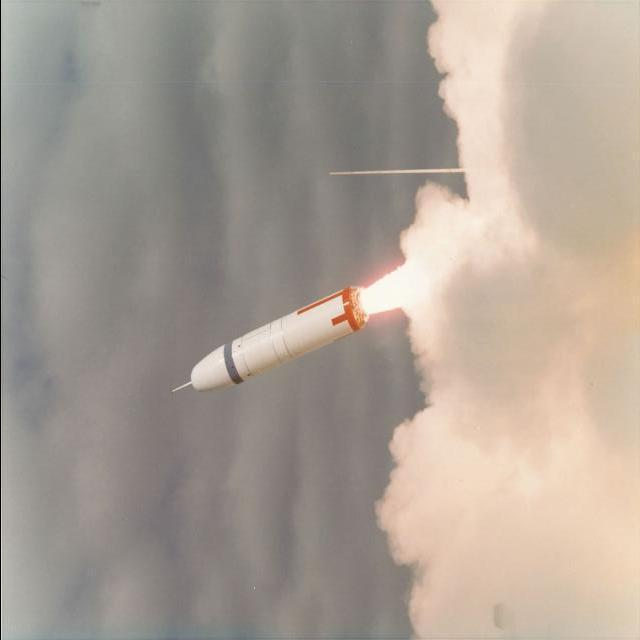missile: (172, 288, 370, 385)
